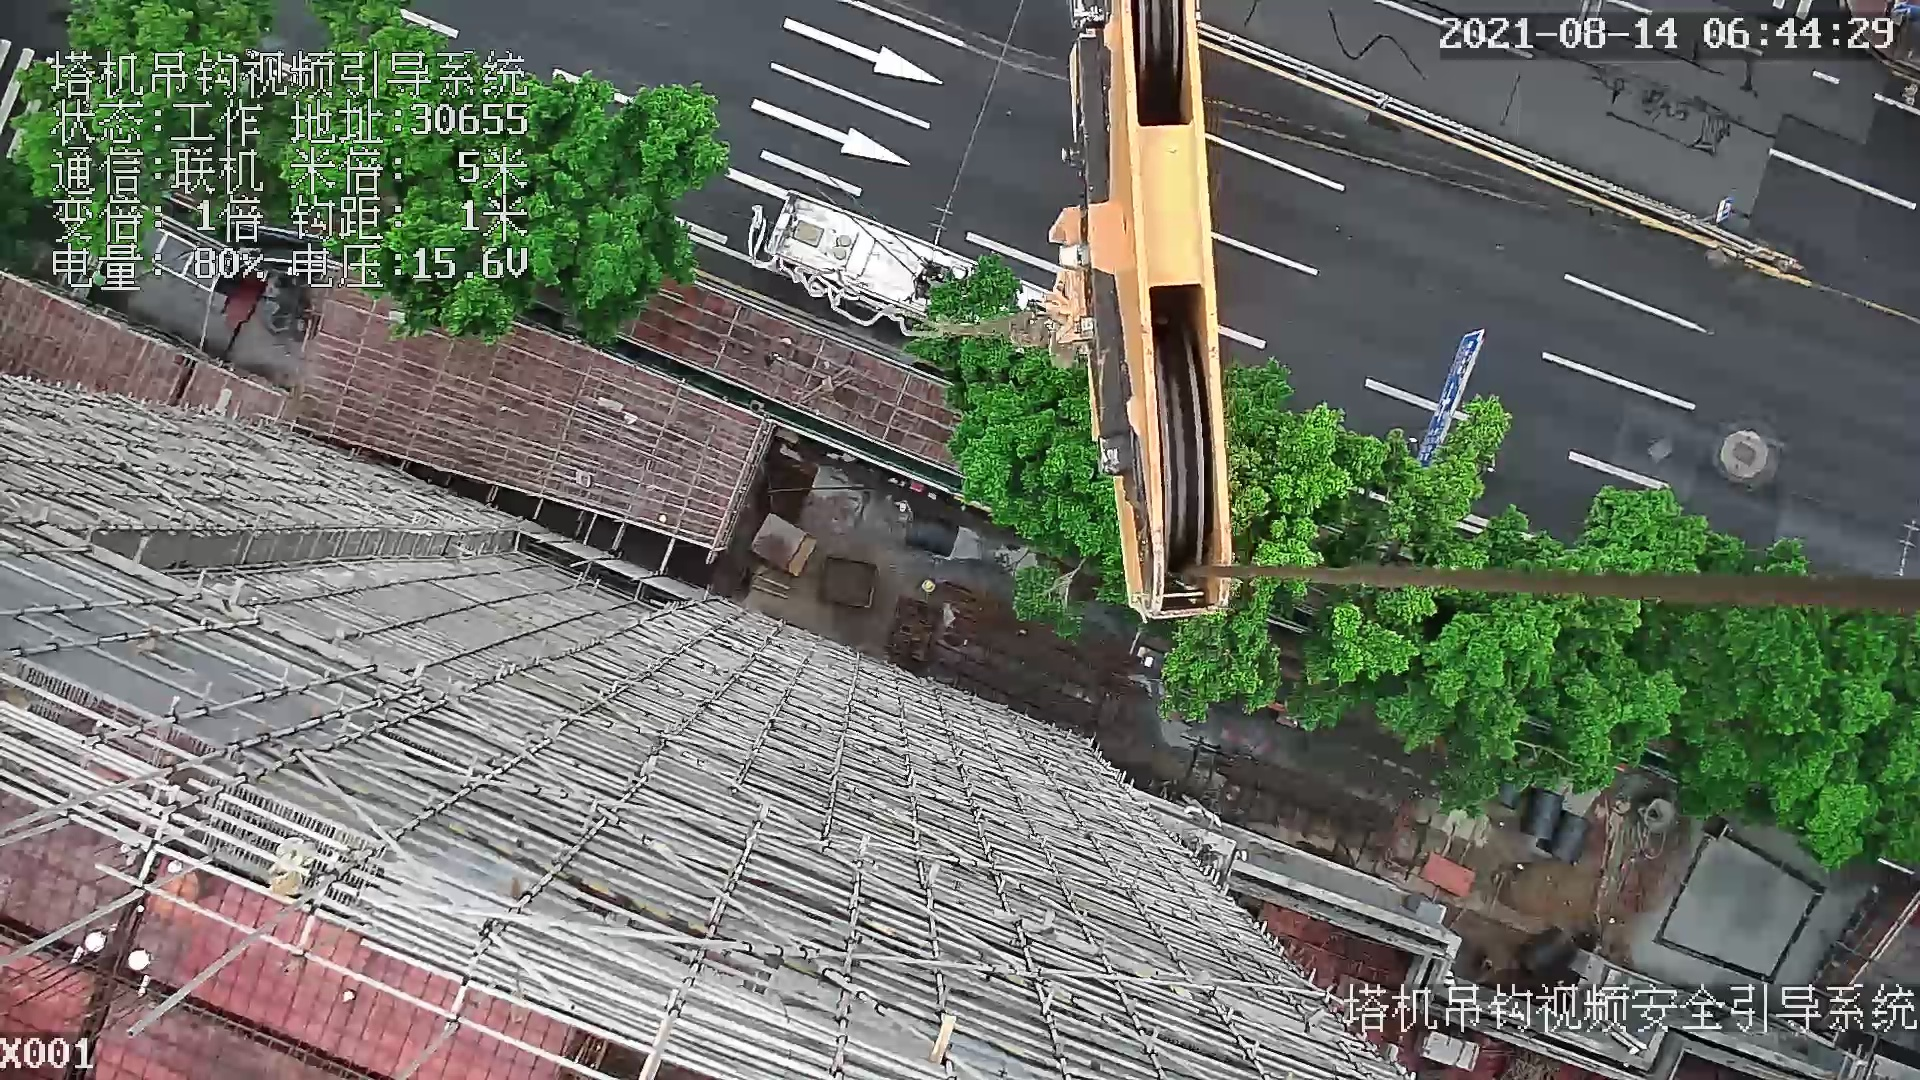hook: (997, 5, 1237, 622)
person: (893, 498, 916, 523)
